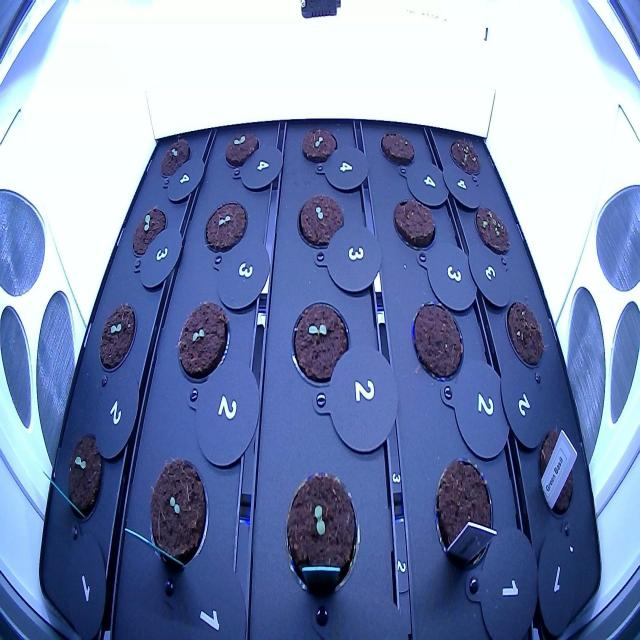germination: (280, 463, 364, 602), (146, 450, 213, 583), (287, 296, 354, 393), (173, 292, 232, 393), (62, 428, 107, 526), (290, 188, 349, 256), (95, 296, 139, 384), (199, 195, 250, 261), (129, 203, 172, 263), (472, 197, 512, 260), (296, 121, 342, 162), (221, 128, 262, 171), (156, 134, 193, 180), (448, 133, 482, 180)
pod: (431, 446, 494, 574), (407, 295, 465, 384), (534, 423, 578, 523), (502, 295, 546, 371), (391, 195, 438, 254), (374, 124, 417, 168)
